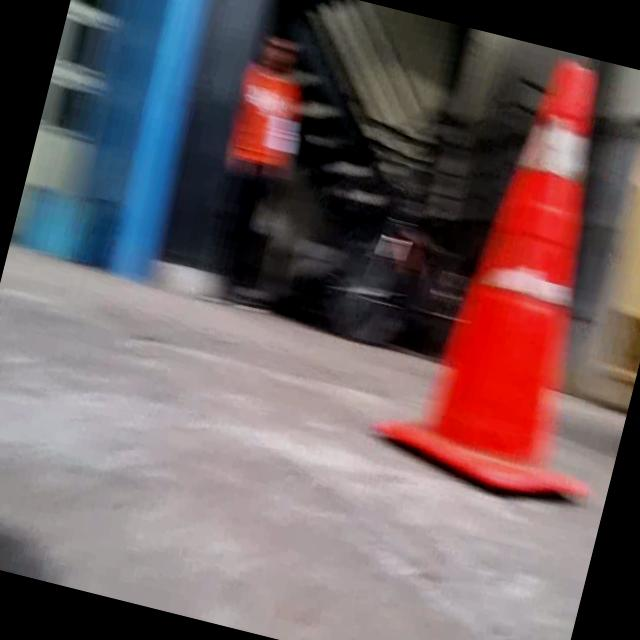cone: (366, 36, 640, 506)
